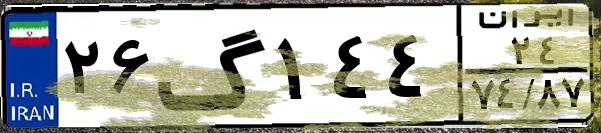1: (270, 28, 330, 110)
2: (57, 26, 110, 100), (508, 27, 537, 80)
4: (385, 28, 445, 110), (330, 28, 385, 110), (537, 27, 568, 80), (495, 70, 520, 125)
6: (110, 28, 156, 98)
7: (560, 70, 590, 125), (470, 70, 495, 125)
8: (535, 70, 560, 125)
گ: (156, 12, 270, 120)
